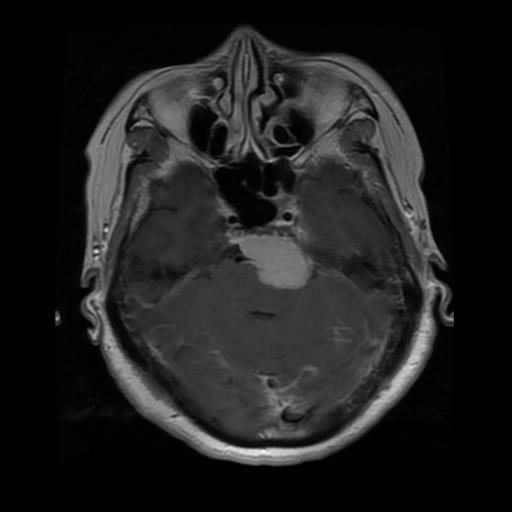Tumour-Pituitary: (214, 212, 343, 319)
